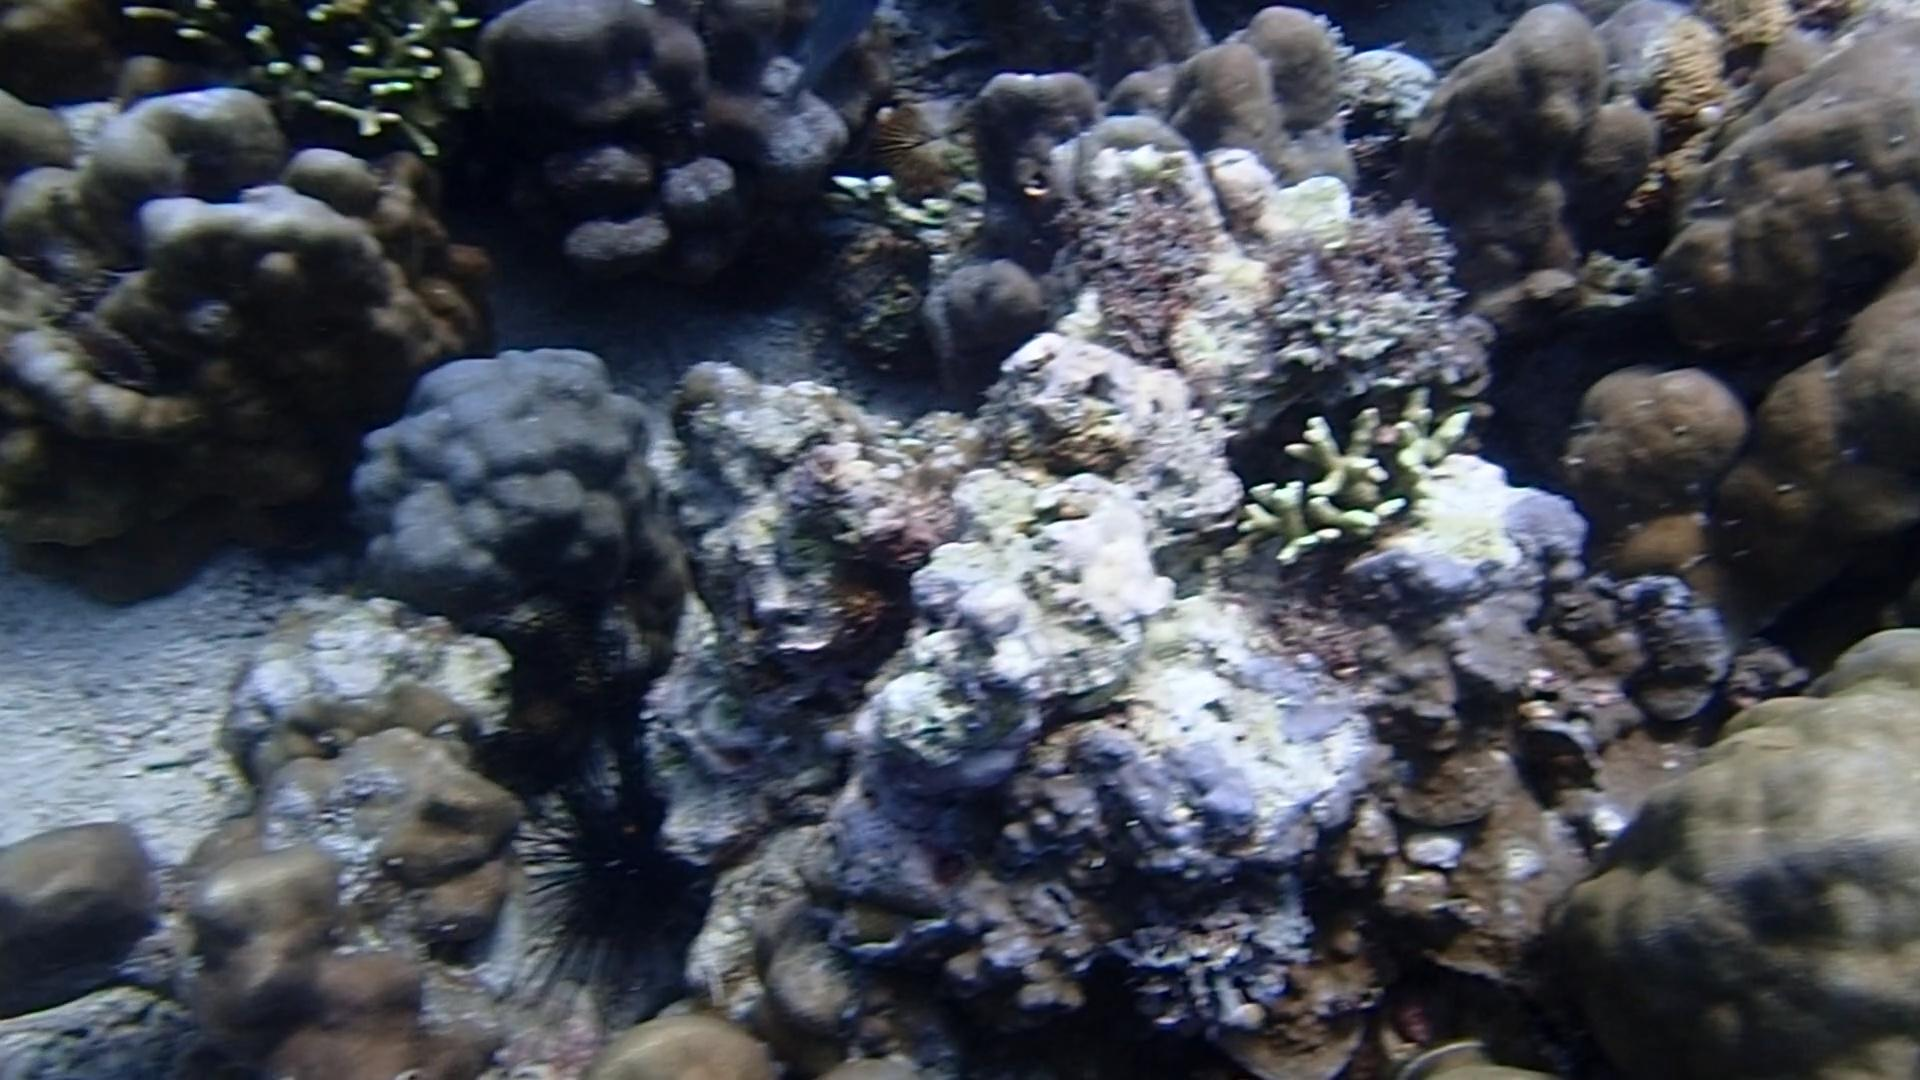Blue Fish Two: (771, 0, 884, 117)
